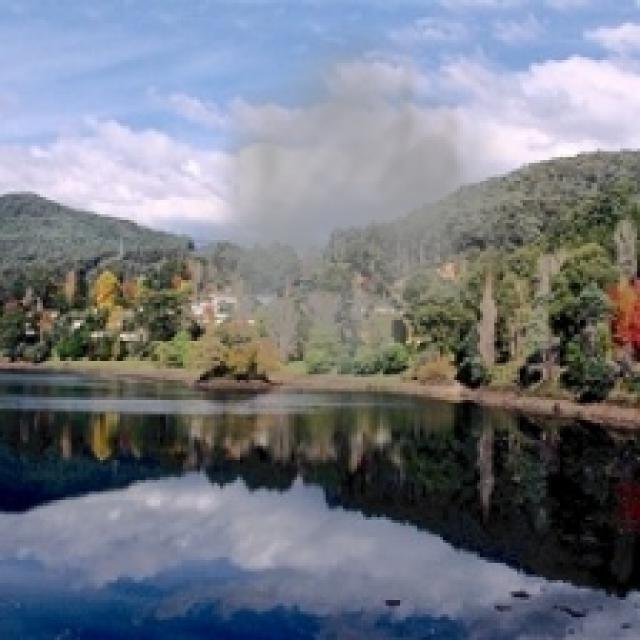Smoke: (194, 11, 546, 412)
